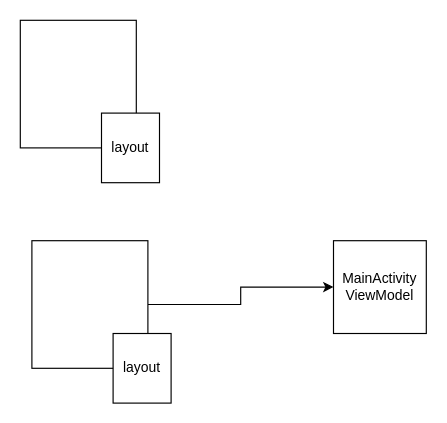
The diagram is 447 pixels wide and 423 high, and some of its shapes have lost their labels. The shapes that lost their labels are listed below. From the top down, each one's box as (x1, y1, x2, y2) in pixels, then its label:
(19, 19, 136, 148): AboutActivity
(31, 240, 148, 368): MainActivity
